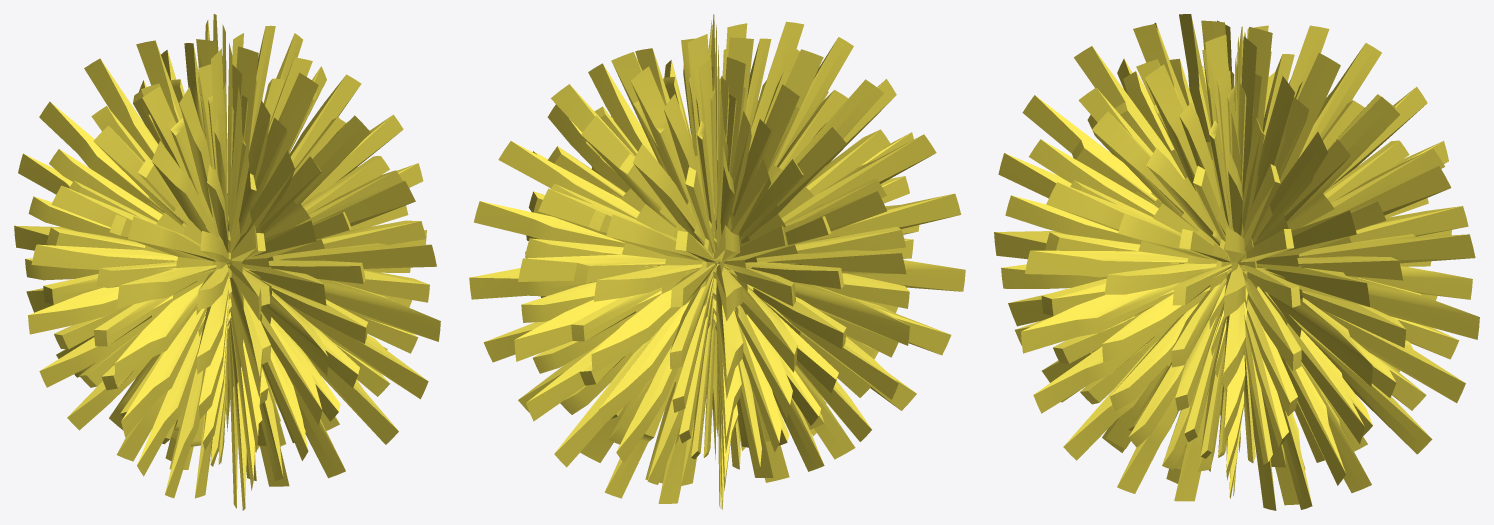
File: HumanHair.fbx
The picture shows the model from 3 angles, left to right: view 1: azimuth 30°, elevation 25°; view 2: azimuth 150°, elevation 25°; view 3: azimuth 270°, elevation 25°; orthographic projection. The views are drawn at different scales.
Visible parts, largest first — view 1: pSuperShape1; view 2: pSuperShape1; view 3: pSuperShape1.
Boxes of the visible parts, x1,y1,x2,y2 form: pSuperShape1: (14,14,440,510); pSuperShape1: (469,14,965,509); pSuperShape1: (994,14,1479,510).
Size of the model in its own units: 12.42 by 13.72 by 12.79.
